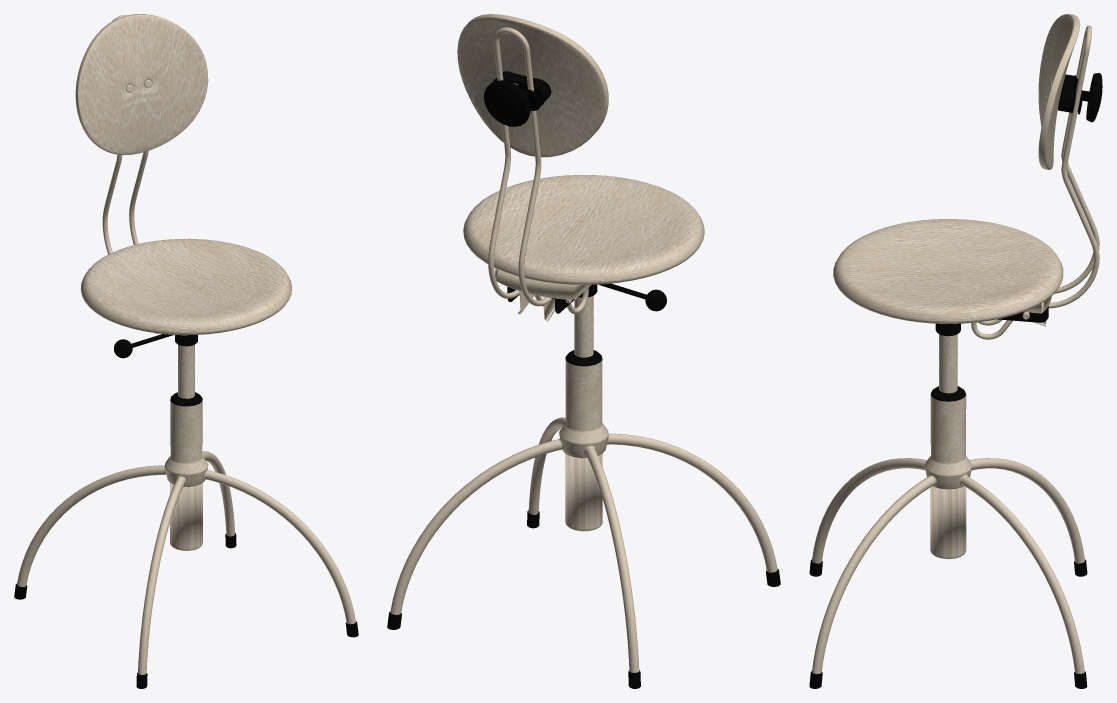
Rendered from sillamaquina.fbx.
3 renders of one model, left to right at view 1: azimuth 30°, elevation 25°; view 2: azimuth 150°, elevation 25°; view 3: azimuth 270°, elevation 25°, orthographic. The views are drawn at different scales.
Parts seen in each view (by area): view 1: wilde_spieth_se_41_obj:wilde_spieth_se_41; view 2: wilde_spieth_se_41_obj:wilde_spieth_se_41; view 3: wilde_spieth_se_41_obj:wilde_spieth_se_41.
Boxes of the visible parts, x1,y1,x2,y2 form: wilde_spieth_se_41_obj:wilde_spieth_se_41: [14, 14, 358, 688]; wilde_spieth_se_41_obj:wilde_spieth_se_41: [387, 14, 780, 688]; wilde_spieth_se_41_obj:wilde_spieth_se_41: [809, 14, 1102, 688].
Bounding box in the file's own units: 2.95 × 7.11 × 3.11.
